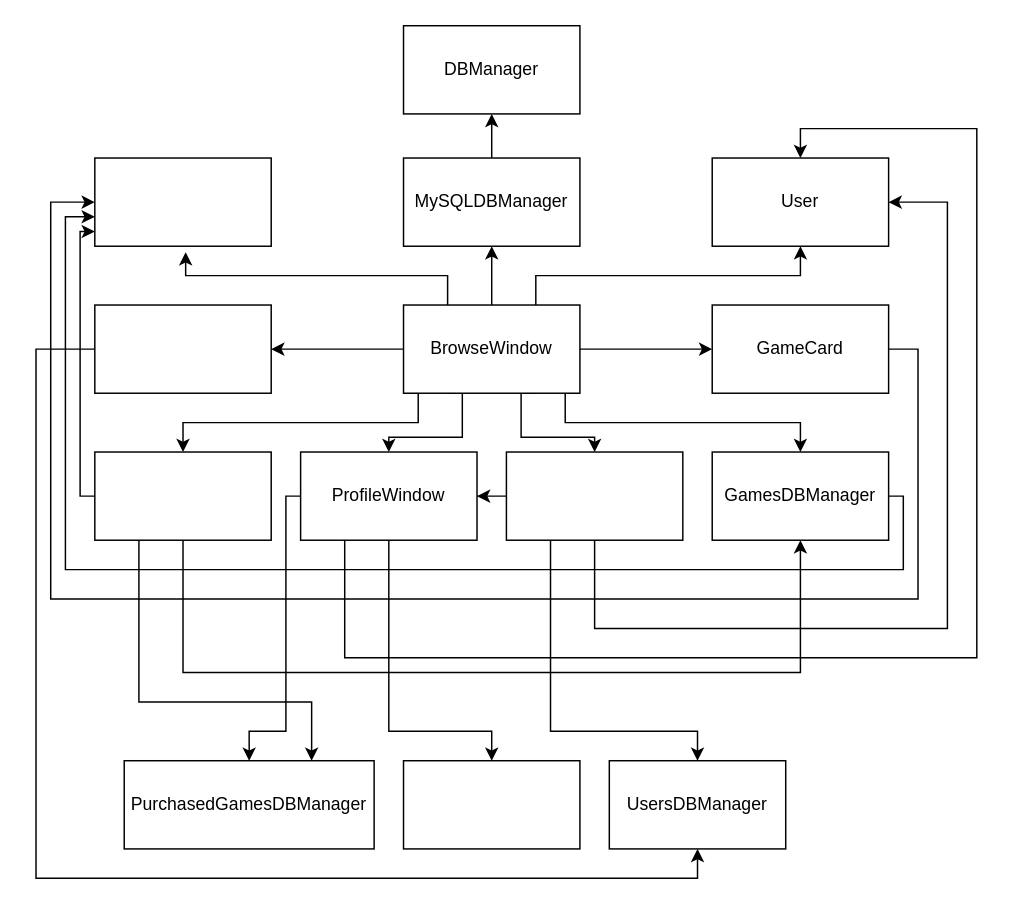
Some shapes in this 1014 by 916 pixel diagram are drawn without their labels. The centre of each missing label's shape, as x and y in pixels:
EntryWindow: (594,495)
Game: (182,201)
GameAddingWindow: (491,804)
GameWindow: (182,495)
RegistrationWindow: (182,348)
